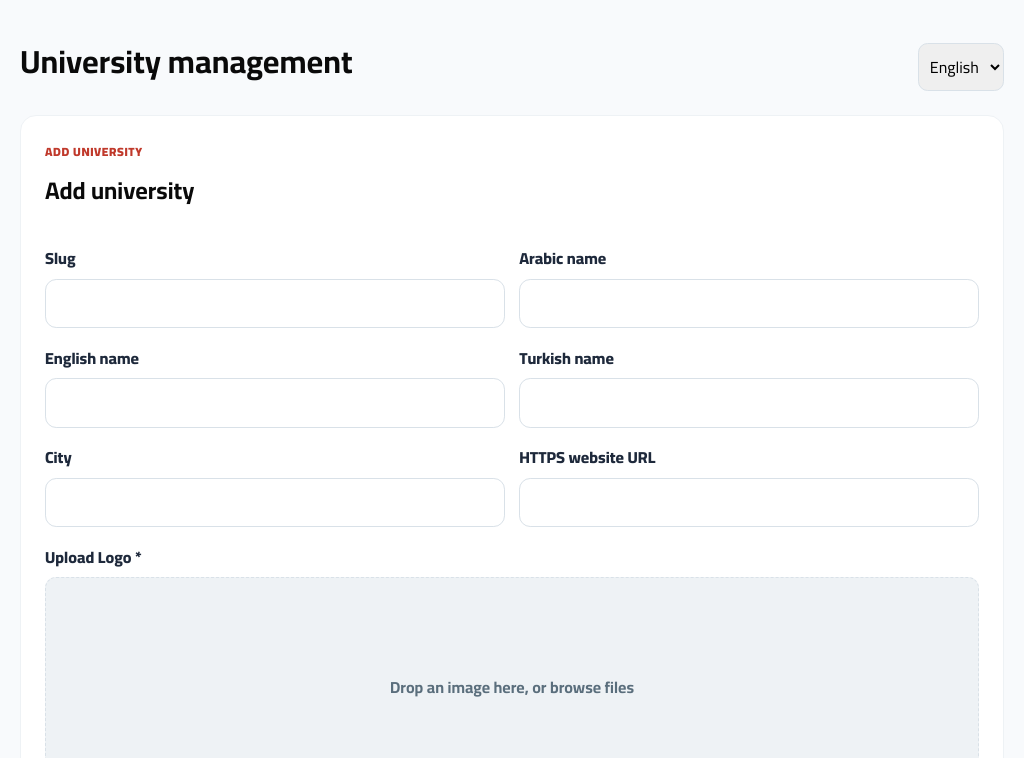
Test: AdminUniversityPage › renders university records and allows editing
The image size is (1024, 758).
Select "العربية" in the dropdown named "Language" at (961, 67), box x1=918 y1=43 x2=1004 y2=91
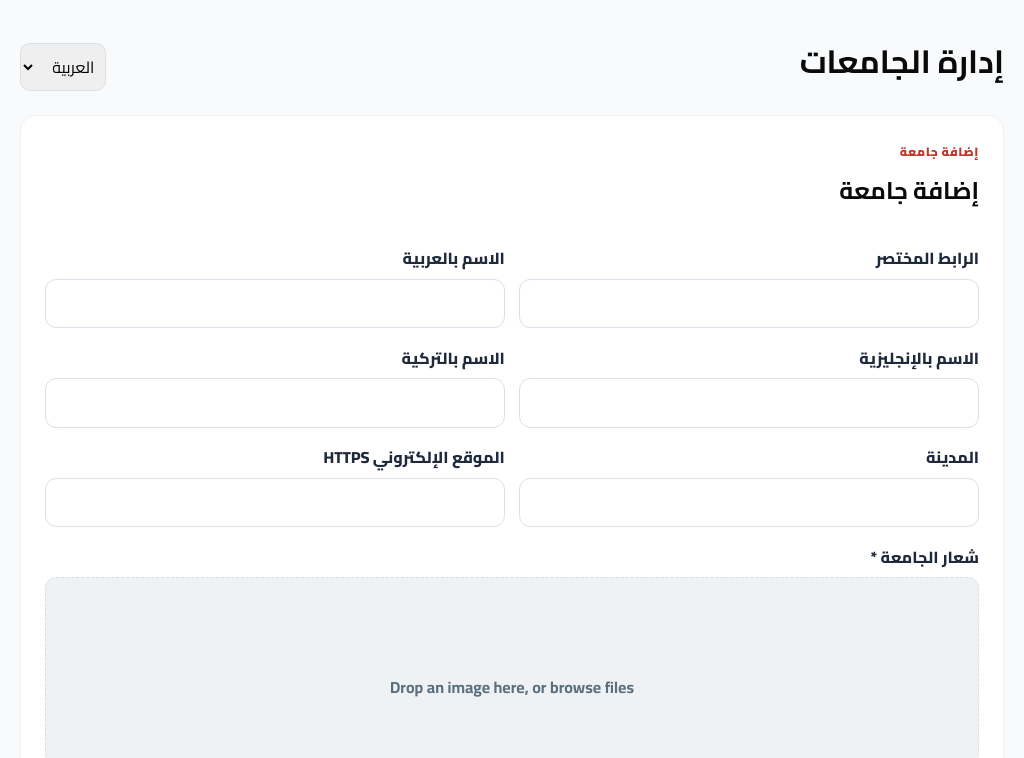
Select "Türkçe" in the dropdown named "Language" at (63, 67), box x1=20 y1=43 x2=106 y2=91
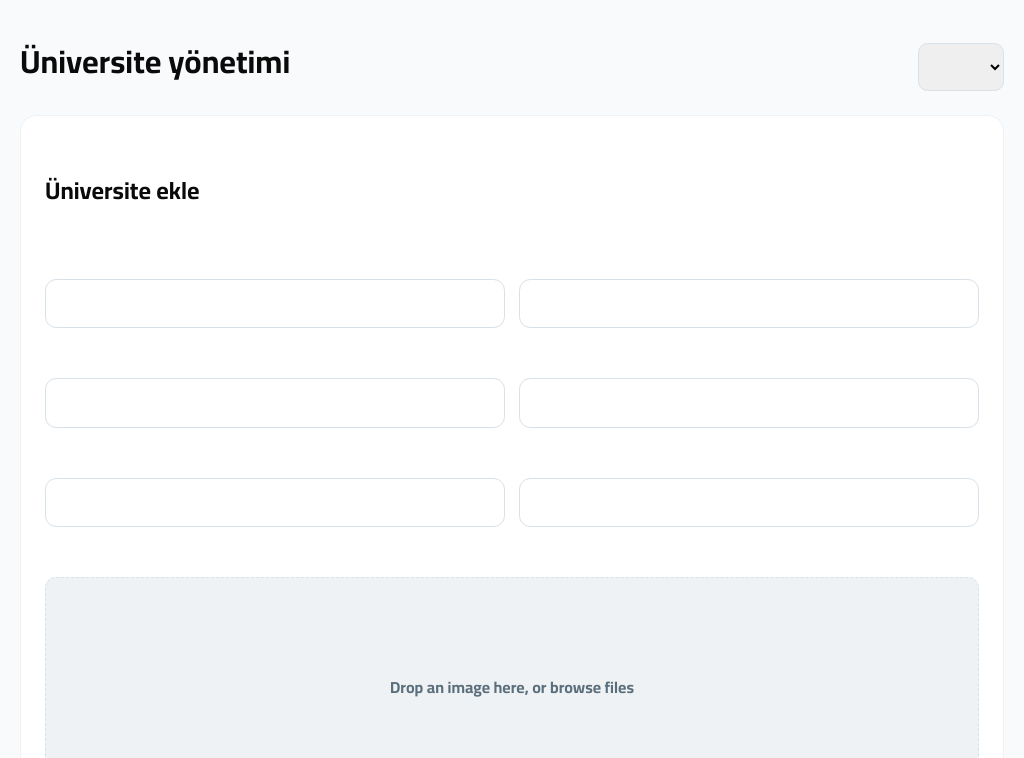
Select "English" in the dropdown named "Language" at (961, 67), box x1=918 y1=43 x2=1004 y2=91
(page scrolled)
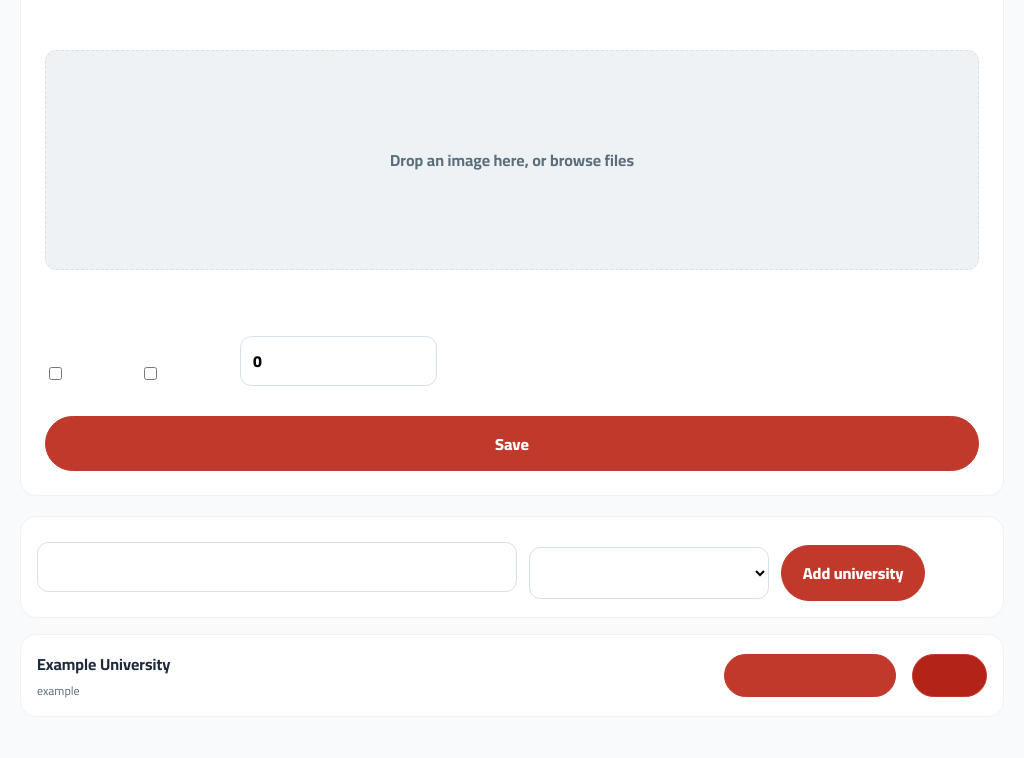
Click the button "Edit" at (810, 675), box x1=724 y1=654 x2=896 y2=697
(page scrolled)
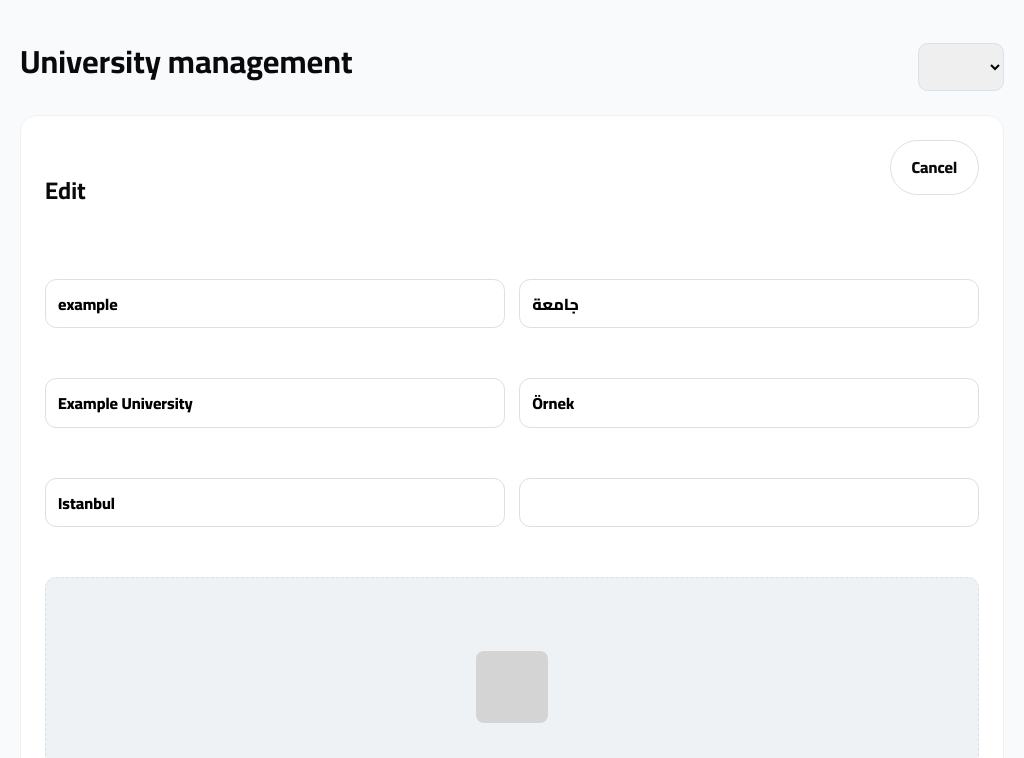
Now the heading "Edit" is shown, box x1=45 y1=168 x2=86 y2=213
